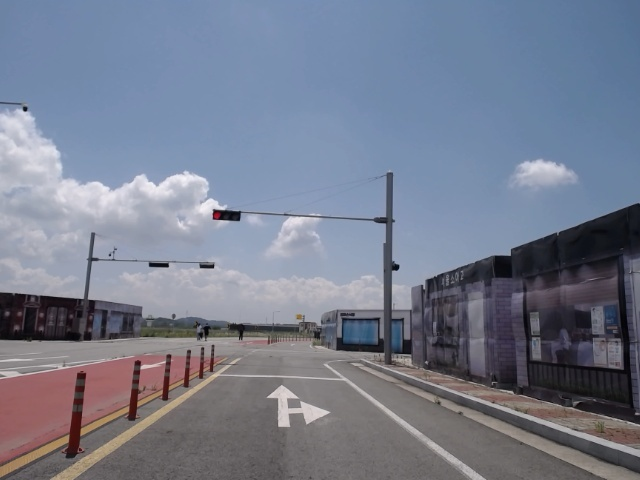red_3: (211, 208, 241, 220)
